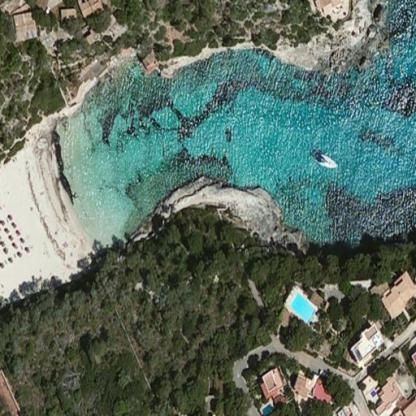ship: (313, 148, 339, 169)
